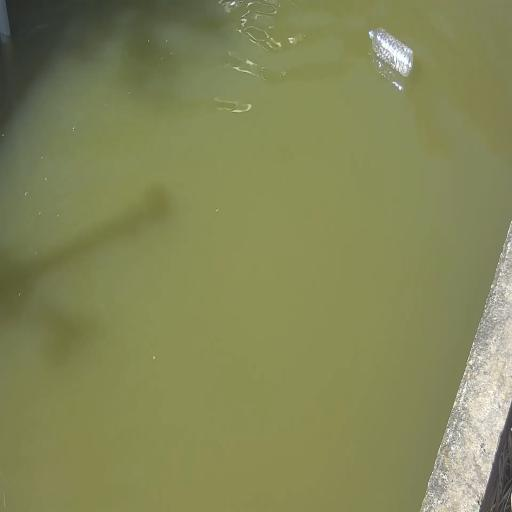plastic: (368, 26, 416, 77)
